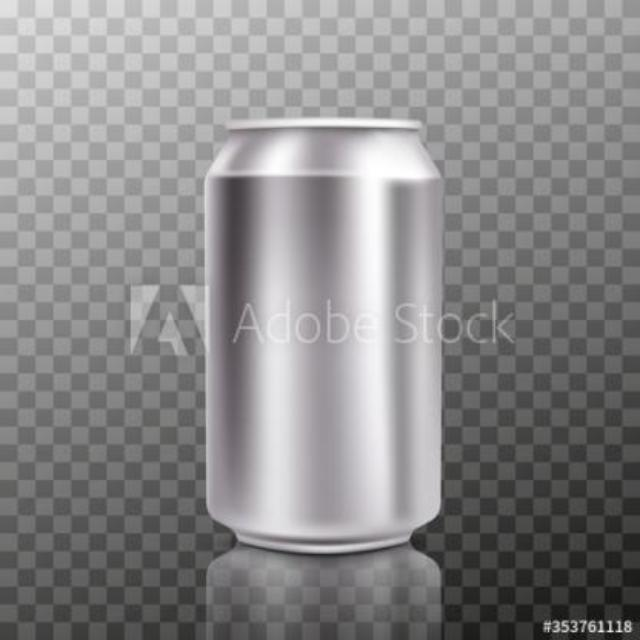metal: (205, 117, 440, 549)
